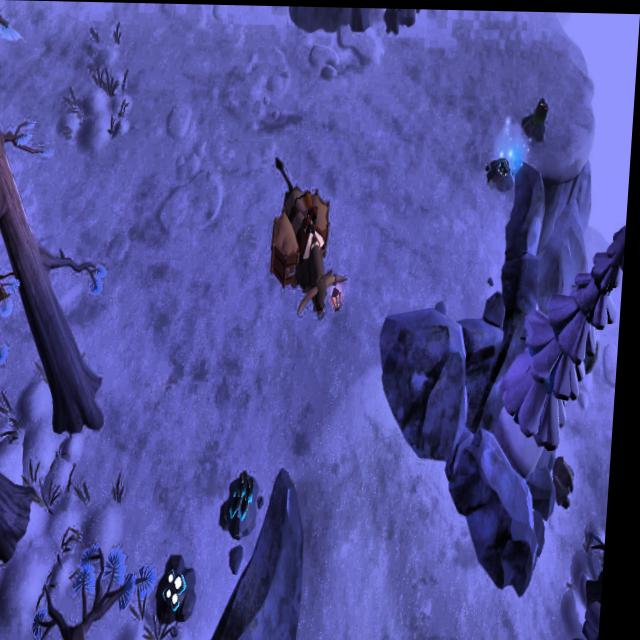ore_t3: (531, 89, 552, 129)
ore_t4: (230, 471, 263, 522), (167, 565, 195, 610)
